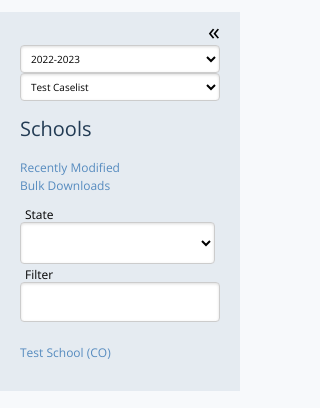
Test case: Sidebar › Toggles sidebar visibility
The width and height of the screenshot is (320, 408).
What coordinates should you click on to do the following:
click the text "«"
I would click on:
 (214, 31)
Its box is [208,17,220,45].
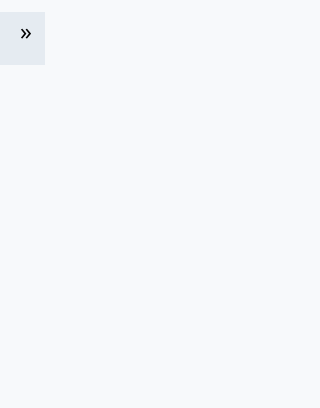
Expected: the text "»" is shown, [20,17,32,45]
